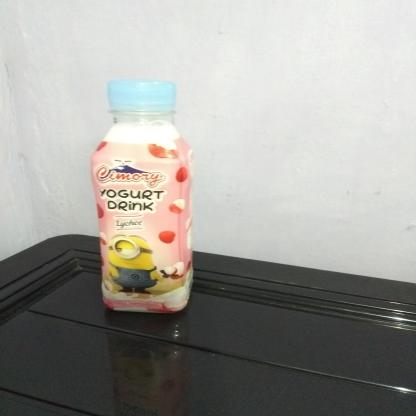bottle: (86, 75, 198, 317)
